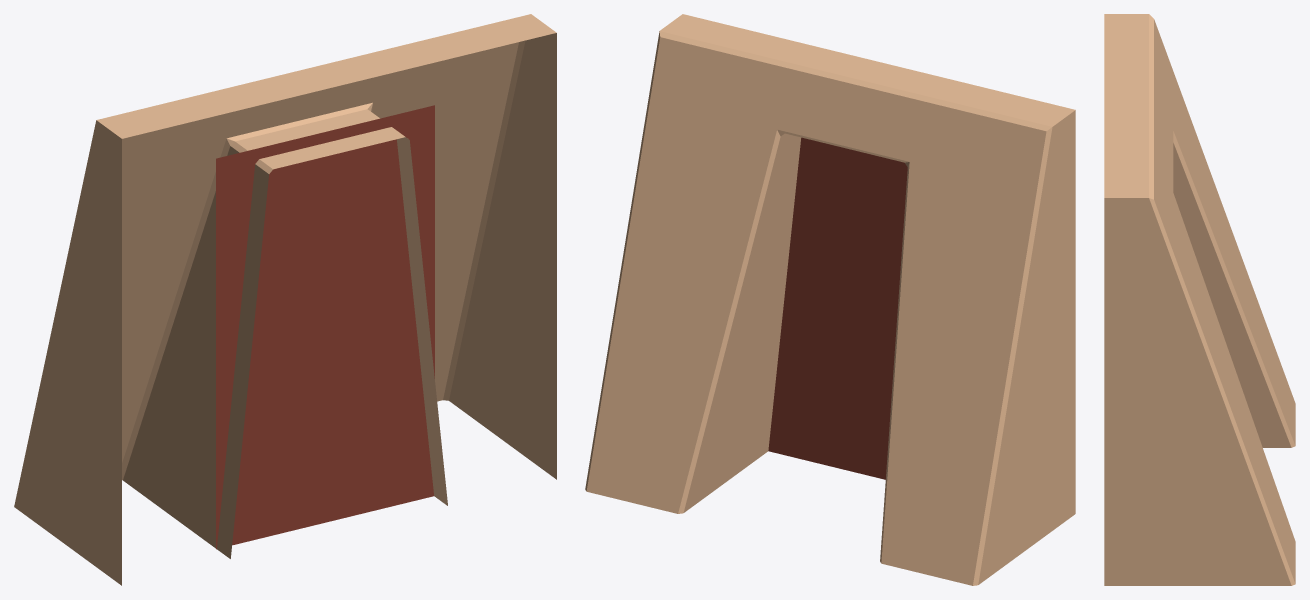
The model's file is Door_facade.fbx.
3 views of the same model, side by side, from view 1: azimuth 30°, elevation 25°; view 2: azimuth 150°, elevation 25°; view 3: azimuth 270°, elevation 25° (orthographic). The views are drawn at different scales.
Visible parts, largest first — view 1: Door_facade; view 2: Door_facade; view 3: Door_facade.
Part boxes in pixels (x1,y1,x2,y2): Door_facade: (14, 14, 556, 585); Door_facade: (585, 14, 1075, 585); Door_facade: (1104, 14, 1295, 585).
Size of the model in its own units: 397 by 390 by 174.
